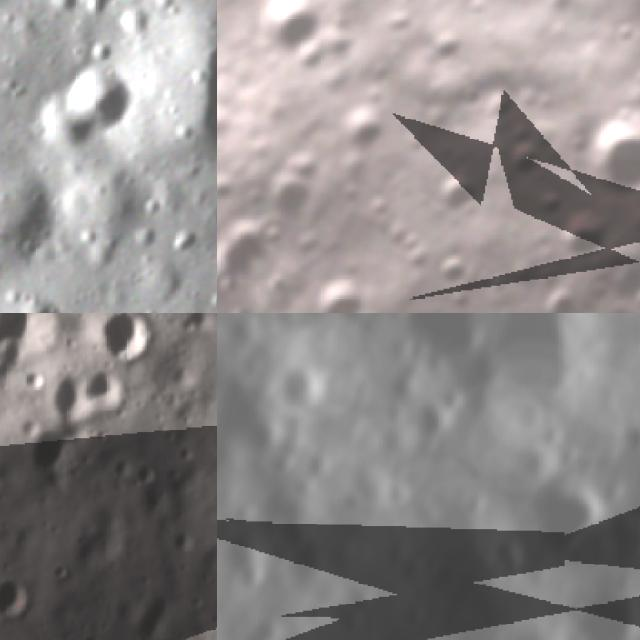crater: (473, 313, 628, 427), (392, 468, 518, 600), (136, 1, 217, 179), (552, 80, 640, 215), (49, 38, 158, 144), (0, 161, 89, 290), (512, 462, 618, 568), (237, 0, 346, 77), (217, 362, 300, 462), (16, 78, 107, 166), (249, 152, 337, 239), (539, 200, 625, 286), (390, 313, 510, 371), (415, 158, 489, 232), (325, 96, 397, 168), (564, 573, 640, 640), (487, 130, 554, 198), (303, 263, 389, 313), (0, 313, 61, 372), (217, 520, 276, 580), (276, 358, 336, 416), (22, 422, 82, 478), (597, 504, 640, 578), (445, 69, 501, 124), (506, 434, 557, 492), (409, 392, 460, 449), (97, 313, 155, 361), (161, 213, 210, 264), (521, 276, 587, 313), (129, 586, 172, 640), (488, 533, 535, 581), (46, 371, 90, 422), (272, 515, 318, 560), (423, 22, 467, 68), (533, 0, 595, 32), (82, 366, 123, 414), (0, 574, 38, 625), (58, 0, 135, 25), (227, 559, 275, 599), (508, 393, 552, 436), (377, 471, 421, 512), (395, 594, 436, 637), (248, 607, 297, 640), (301, 444, 339, 484), (262, 446, 302, 482), (33, 0, 91, 24), (613, 411, 640, 457), (338, 604, 372, 638), (222, 622, 282, 640), (170, 527, 198, 554), (133, 458, 158, 485), (109, 453, 133, 480), (53, 559, 71, 587), (75, 629, 104, 640)
